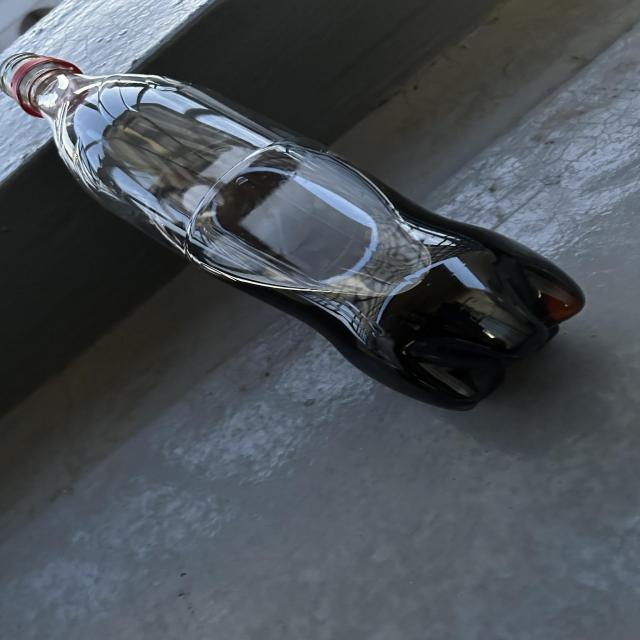medium: (0, 53, 584, 410)
